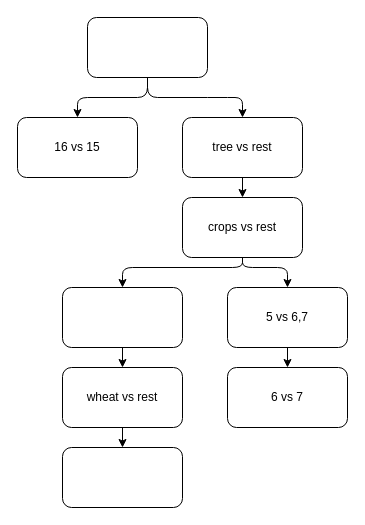
Image size: 365x525. Some labels were removed from this diagram. Each missing label, with the centre of its shape:
alfalfa vs oats: [122,477]
building vs plants: [147,47]
hay vs rest: [122,317]
